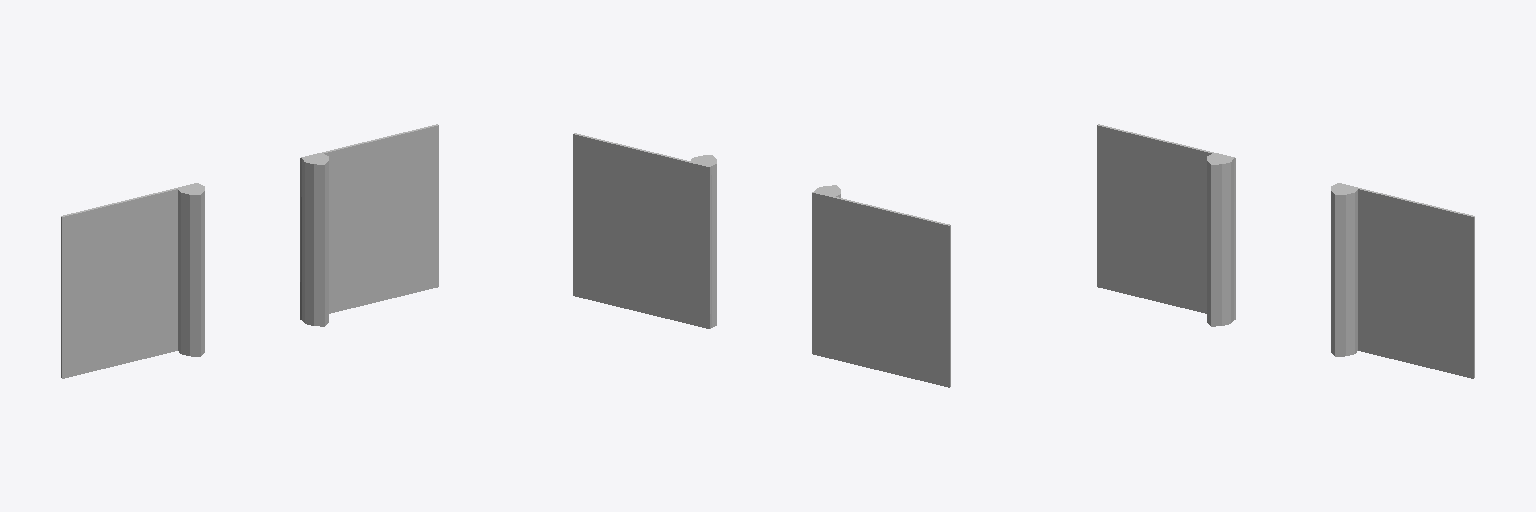
The model's file is wall.obj.
3 views of the same model, side by side, from view 1: azimuth 30°, elevation 25°; view 2: azimuth 150°, elevation 25°; view 3: azimuth 330°, elevation 25° (orthographic).
Visible parts, largest first — view 1: pasted__war group3; view 2: pasted__war group3; view 3: pasted__war group3.
Boxes of the visible parts, <box> form: pasted__war group3: <box>61,124,438,378</box>; pasted__war group3: <box>573,133,950,387</box>; pasted__war group3: <box>1097,124,1474,378</box>.
Bounding box in the file's own units: 227 × 93.14 × 14.13.